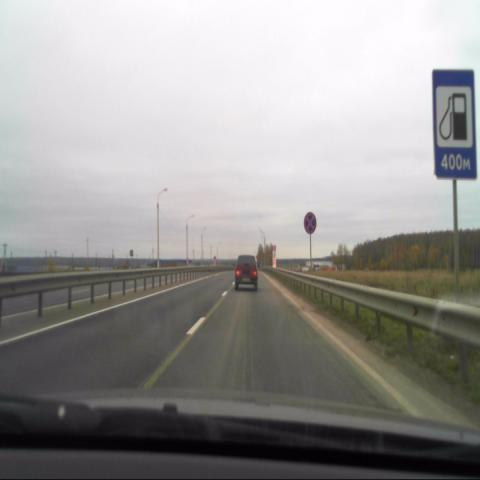3_27: (303, 211, 317, 236)
